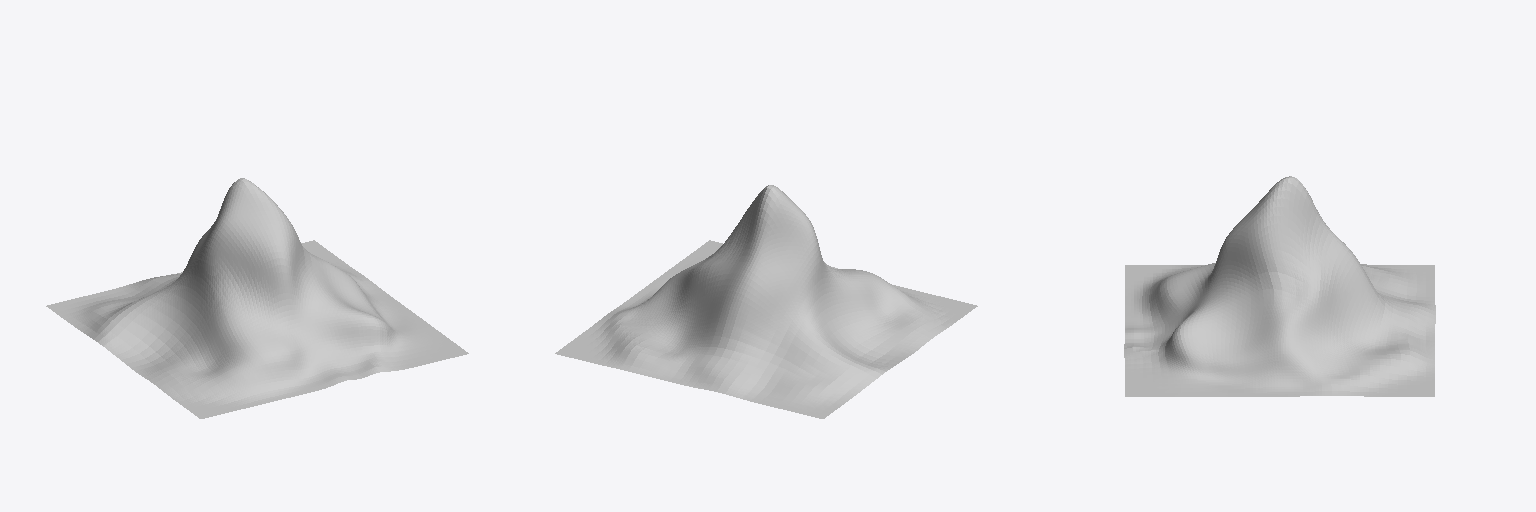
Rendered from mountain.obj.
3 renders of one model, left to right at view 1: azimuth 30°, elevation 25°; view 2: azimuth 150°, elevation 25°; view 3: azimuth 270°, elevation 25°, orthographic.
Parts seen in each view (by area): view 1: Plane; view 2: Plane; view 3: Plane.
Part boxes in pixels (x1,y1,x2,y2): Plane: (46,178,468,418); Plane: (555,185,977,418); Plane: (1124,176,1435,396).
Bounding box in the file's own units: 14.18 × 7.51 × 14.05.